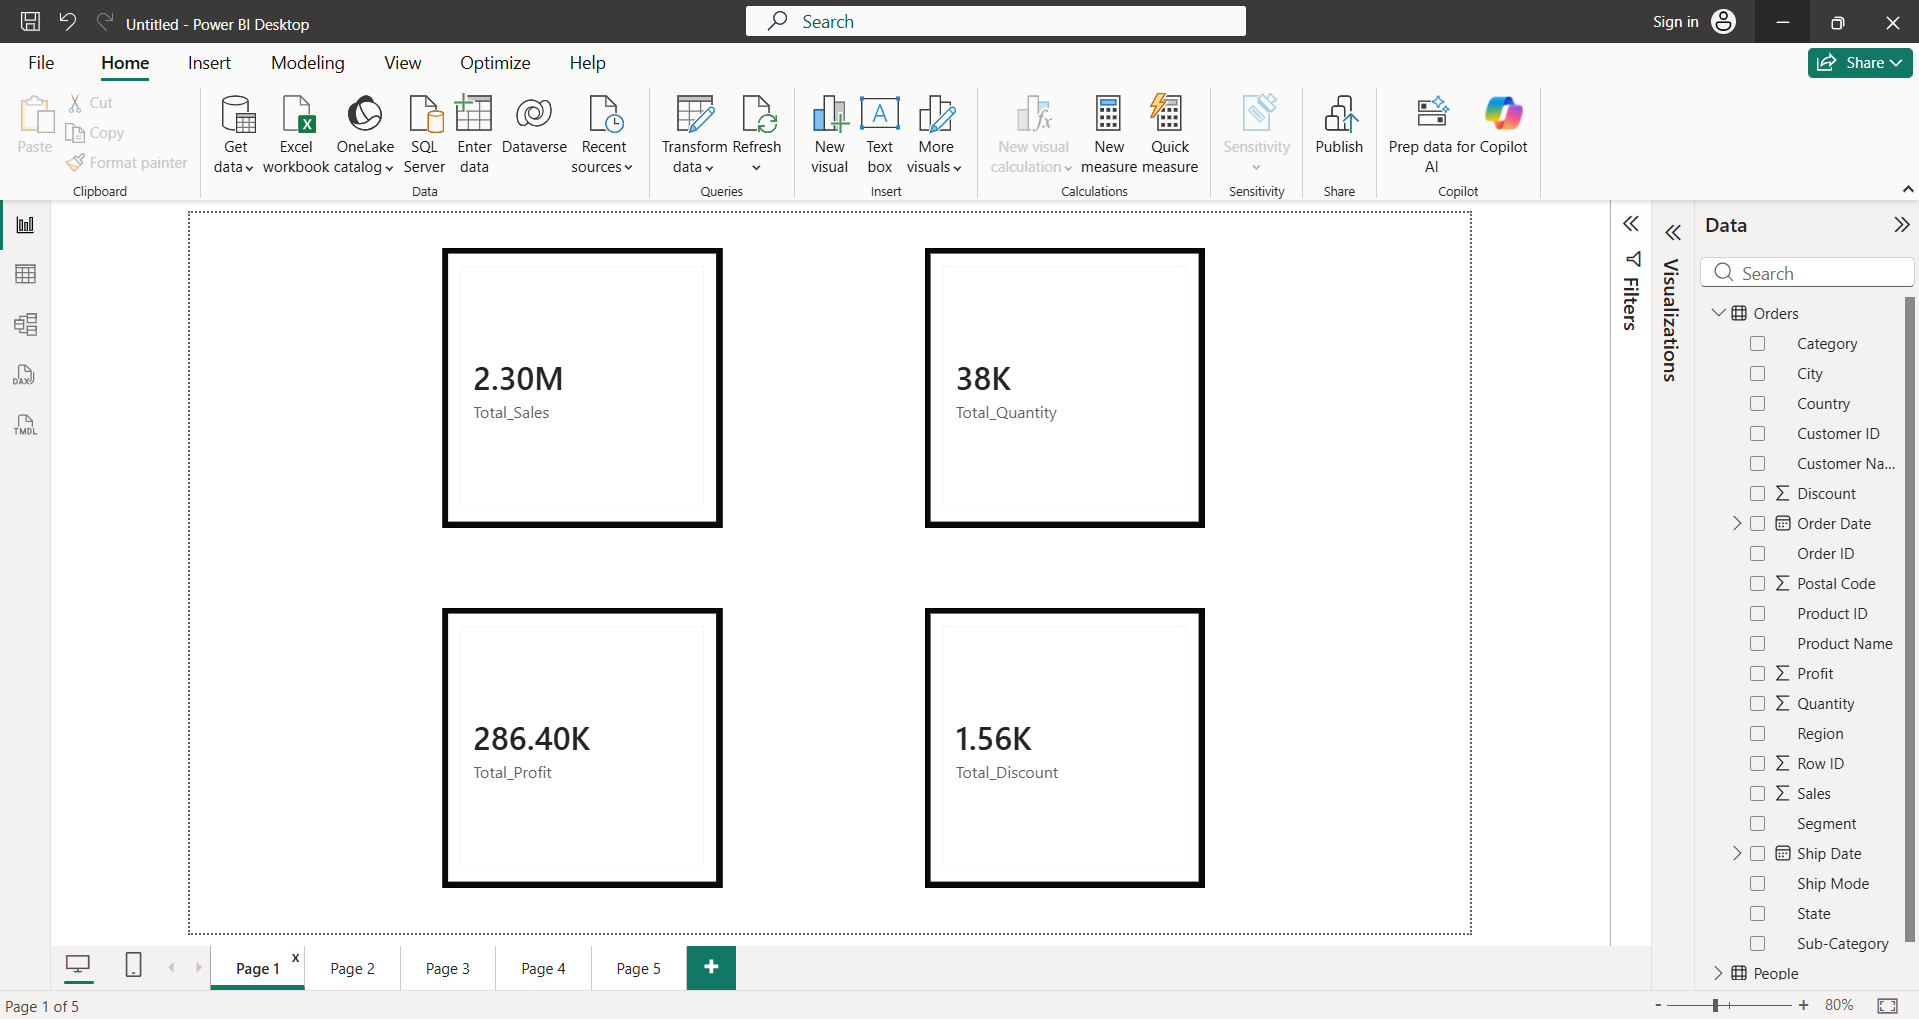

This screenshot's page, from the dashboard's own definition file:
{"tool":"powerbi","page":{"name":"Page 1","canvas":[1280,720],"ordinal":0},"visuals":[{"type":"cardVisual","fields":{"Data":["Sum(Orders.Sales)"]},"box":[252.5,35,280,280],"z":0},{"type":"cardVisual","fields":{"Data":["Sum(Orders.Profit)"]},"box":[252.5,395,280,280],"z":1000},{"type":"cardVisual","fields":{"Data":["Sum(Orders.Quantity)"]},"box":[735,35,280,280],"z":2000},{"type":"cardVisual","fields":{"Data":["Sum(Orders.Discount)"]},"box":[735,395,280,280],"z":3000}]}

Visuals, with their boxes on the page's 1280x720 design canvas (x1, y1, x2, y2). These are canvas units, not pixel positions in the 1919x1019 screenshot, which may show the page scaled, cropped or inside an application window:
cardVisual - Sum(Orders.Sales): (left=252, top=35, right=532, bottom=315)
cardVisual - Sum(Orders.Profit): (left=252, top=395, right=532, bottom=675)
cardVisual - Sum(Orders.Quantity): (left=735, top=35, right=1015, bottom=315)
cardVisual - Sum(Orders.Discount): (left=735, top=395, right=1015, bottom=675)
